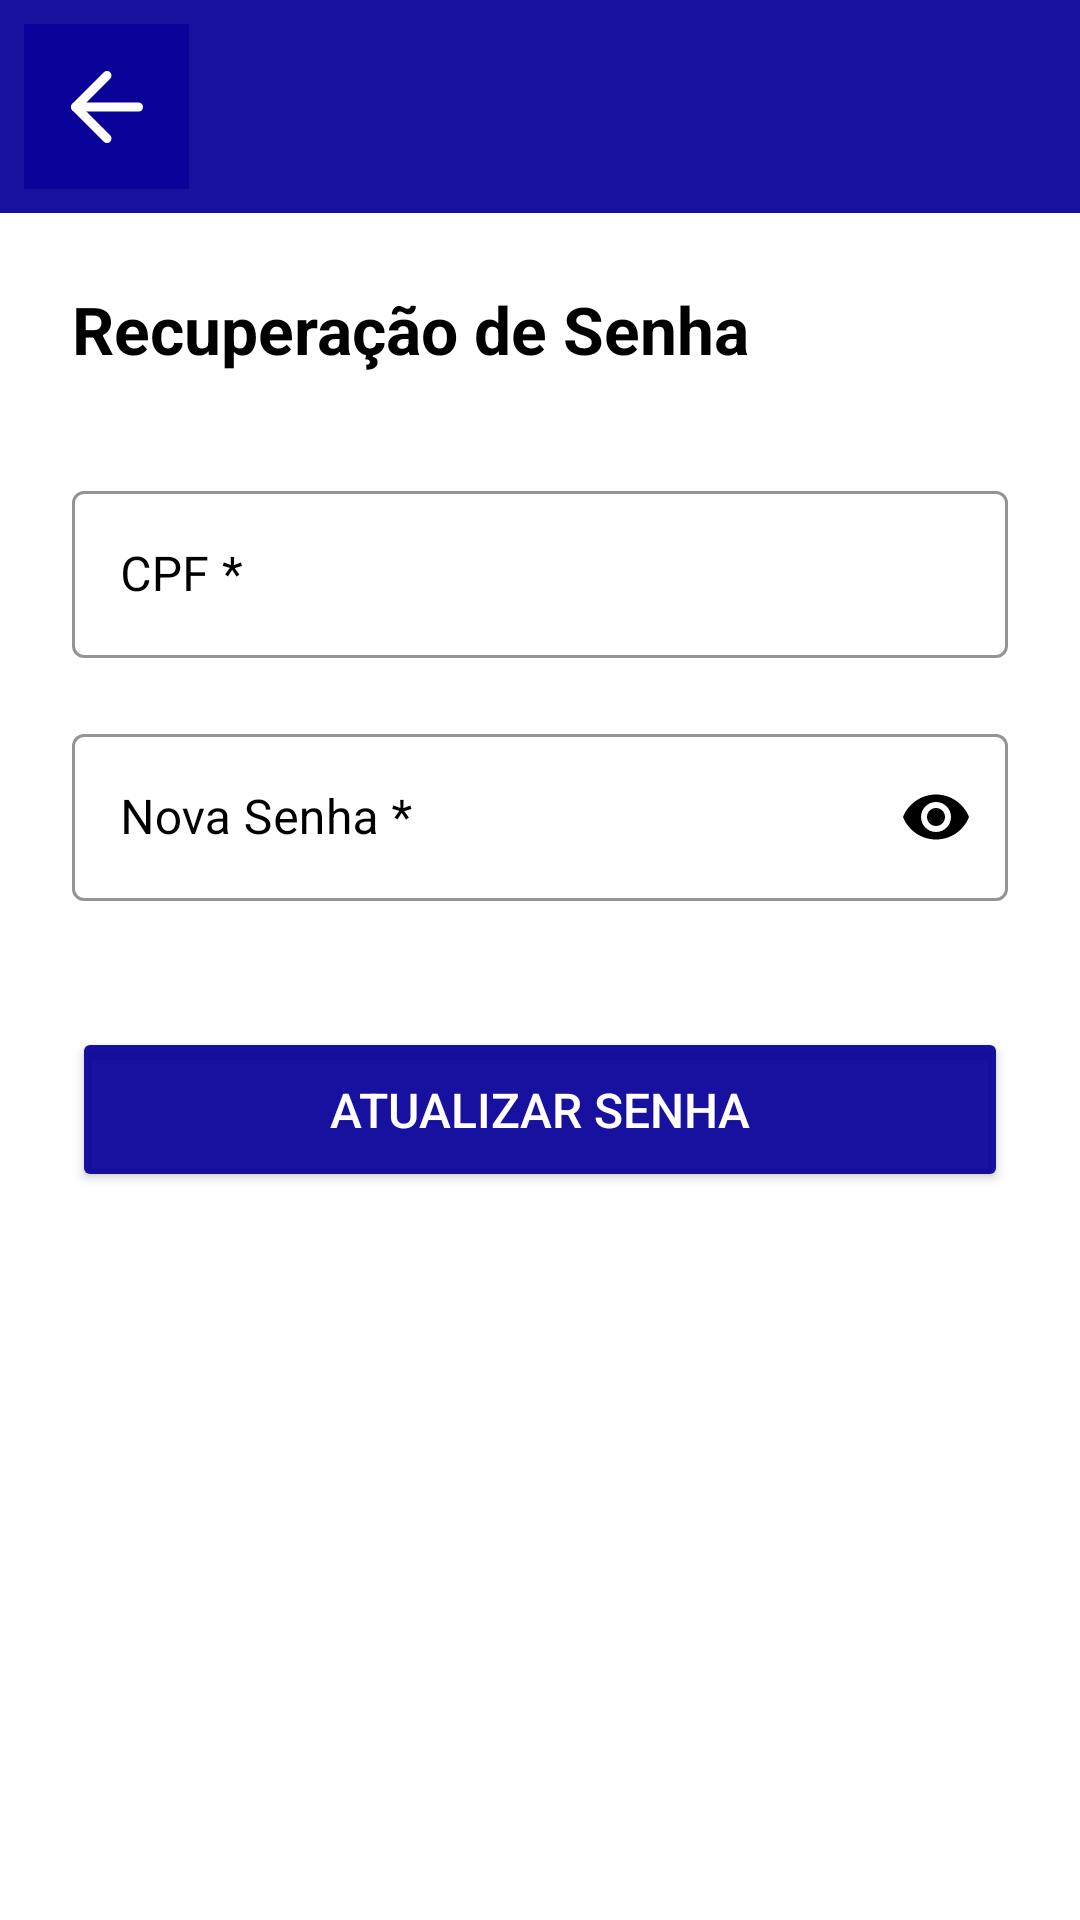

Screen size 1080w x 1920h. Icon name, then its center in pixels as (x,y):
arrow left: (106,106)
